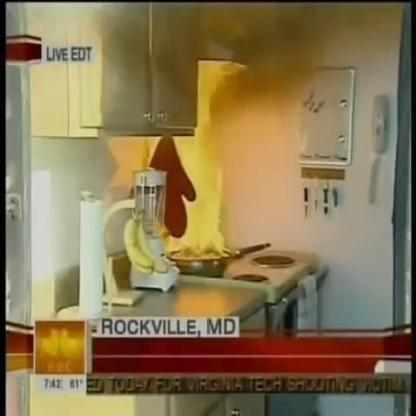fire: (151, 62, 239, 261)
